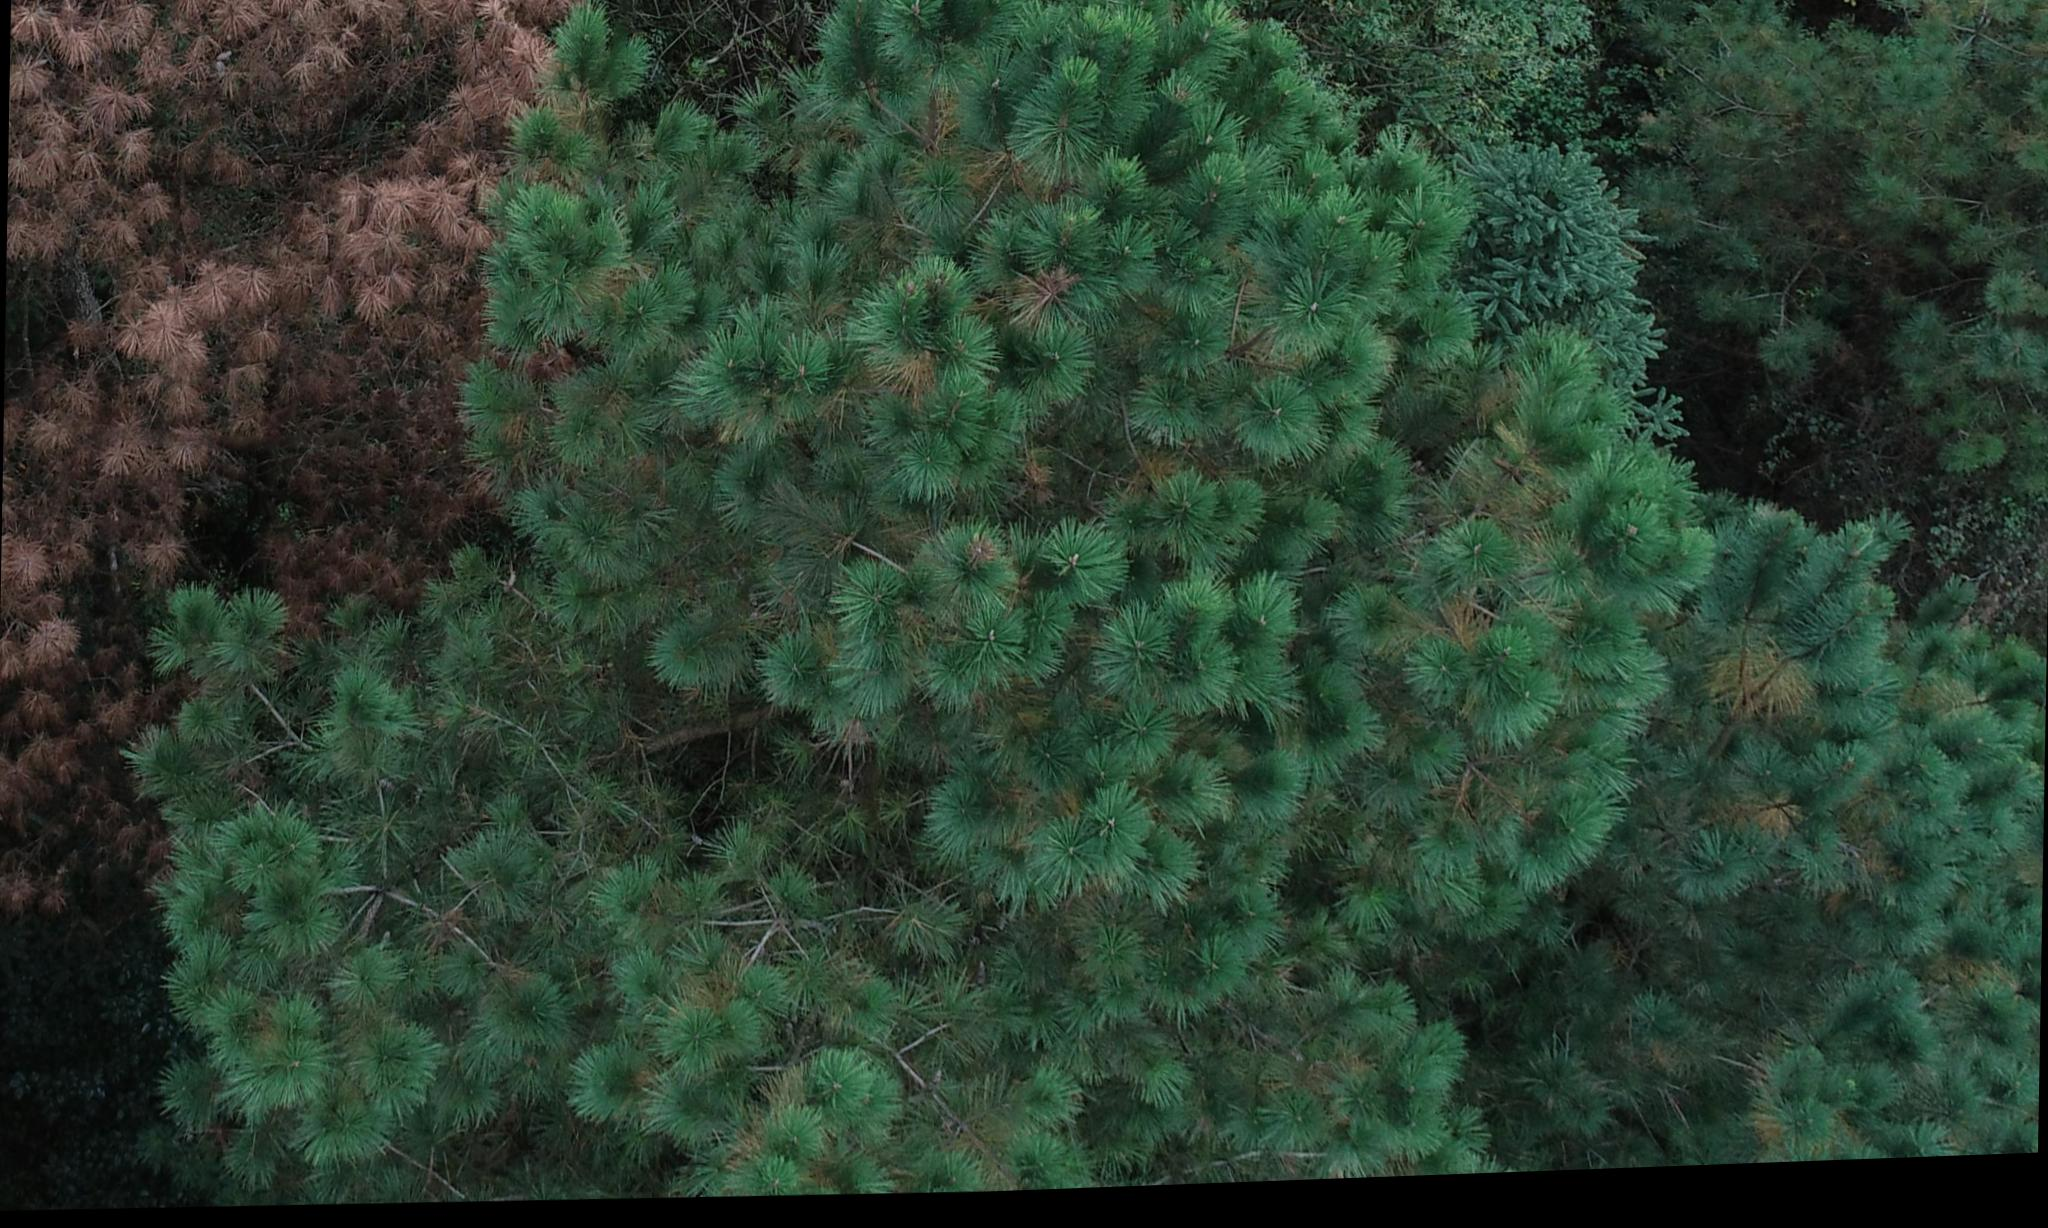heavy: (544, 44, 1680, 925), (1, 0, 478, 575)
